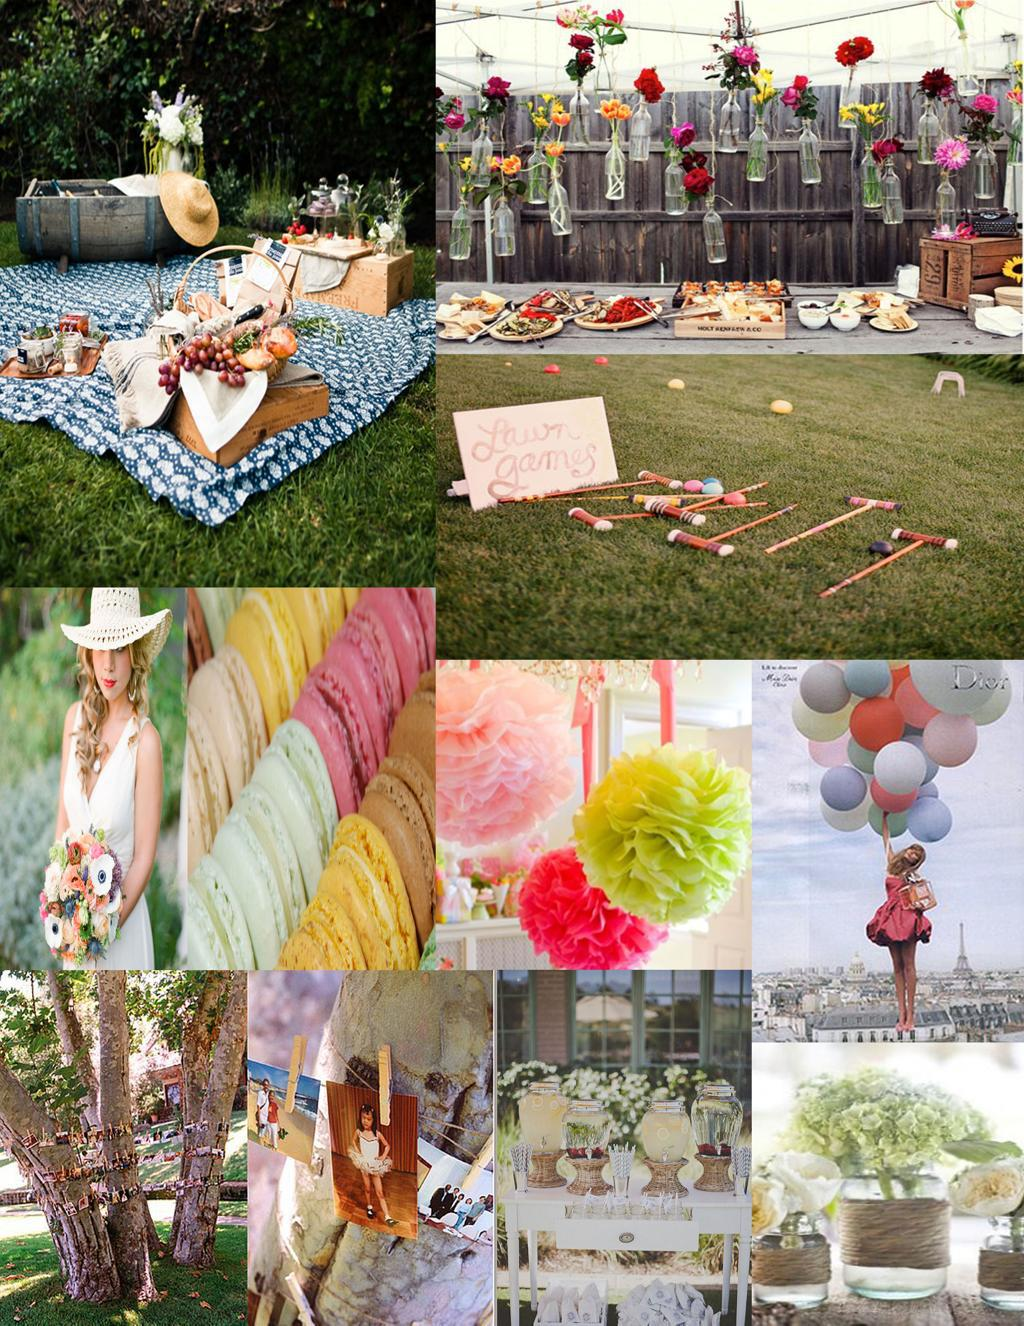face: (91, 635, 133, 700), (904, 847, 922, 864), (361, 1110, 373, 1129), (264, 1082, 269, 1092), (270, 1093, 275, 1102), (487, 1197, 492, 1205), (480, 1199, 484, 1204), (448, 1185, 451, 1190), (468, 1200, 472, 1203), (455, 1189, 458, 1193), (460, 1196, 463, 1200)
